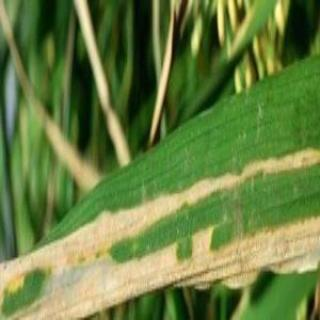Hawar-Daun: (140, 185, 320, 289), (182, 213, 314, 290), (74, 207, 153, 320), (0, 241, 94, 320), (194, 146, 320, 190)
